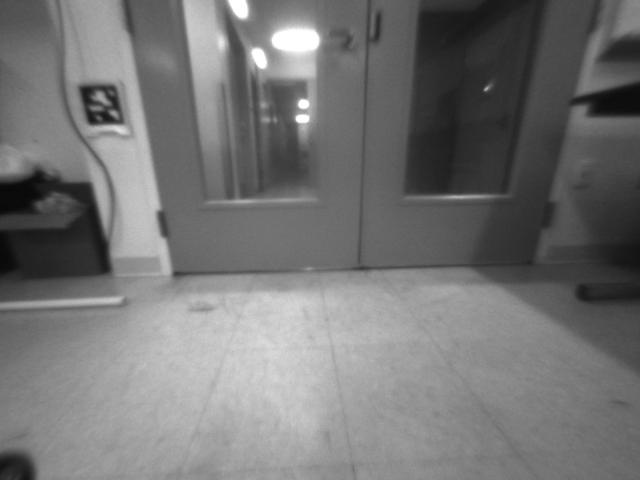door_handle: (311, 24, 358, 51)
